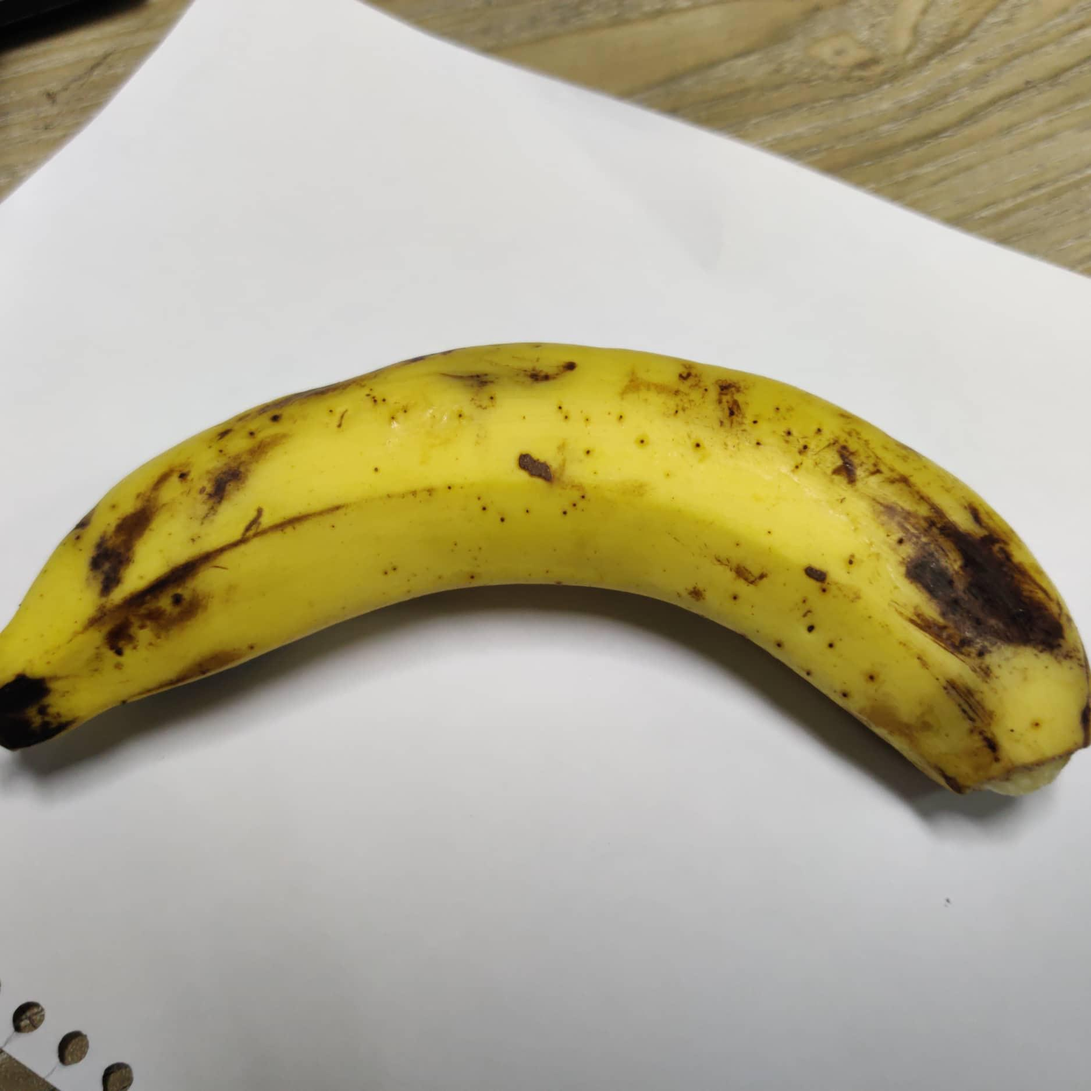Banana Ripe: (8, 295, 1091, 975)
